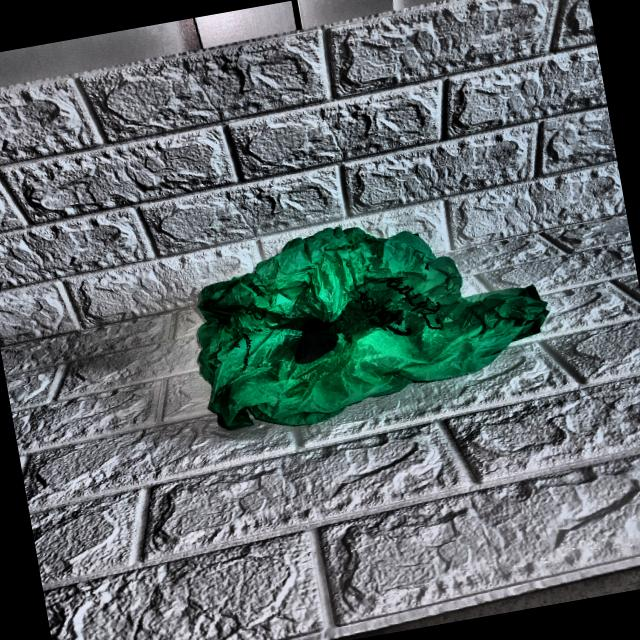plastic bag: (165, 180, 589, 467)
